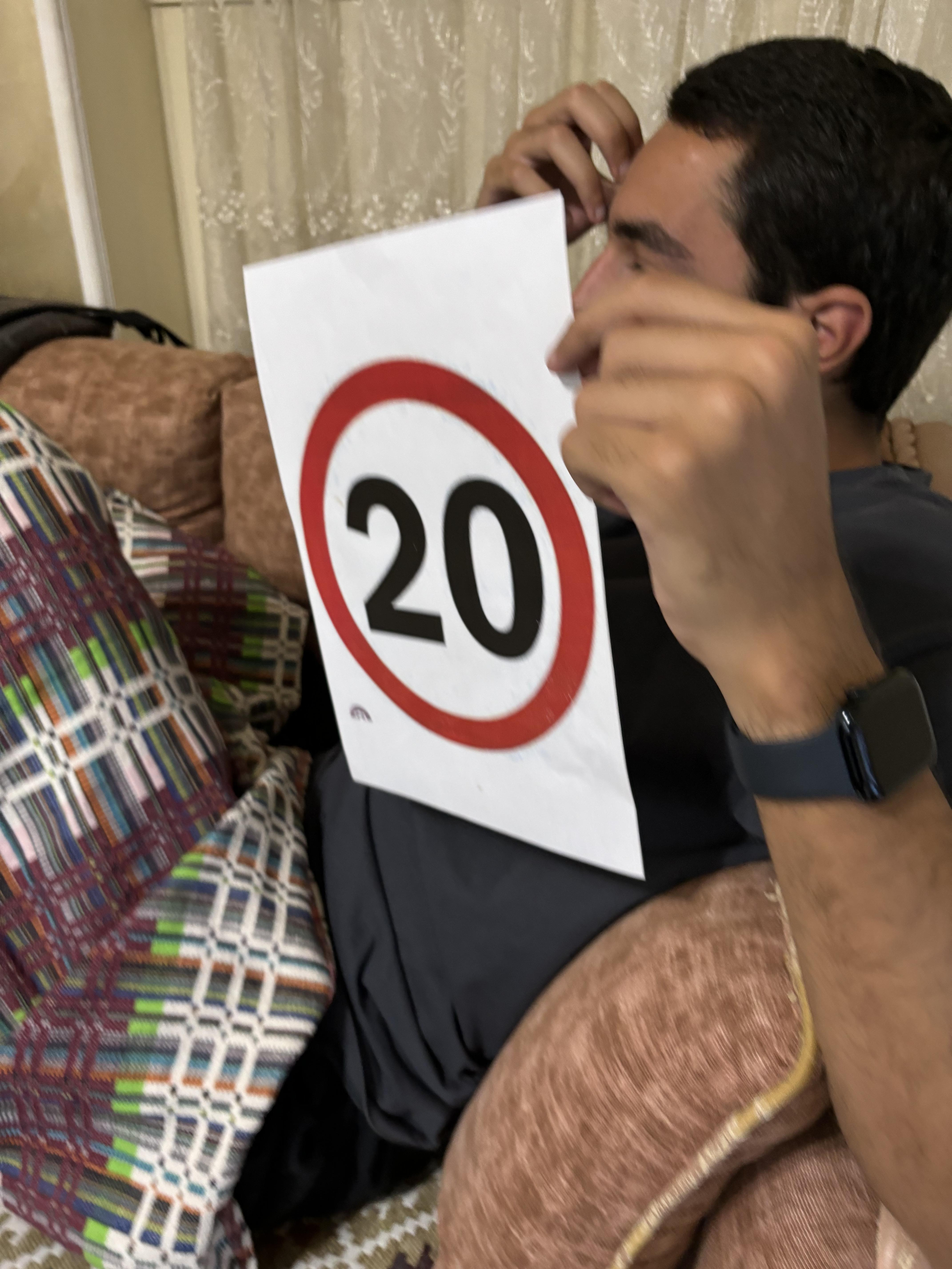20-Speed: (294, 349, 603, 758)
